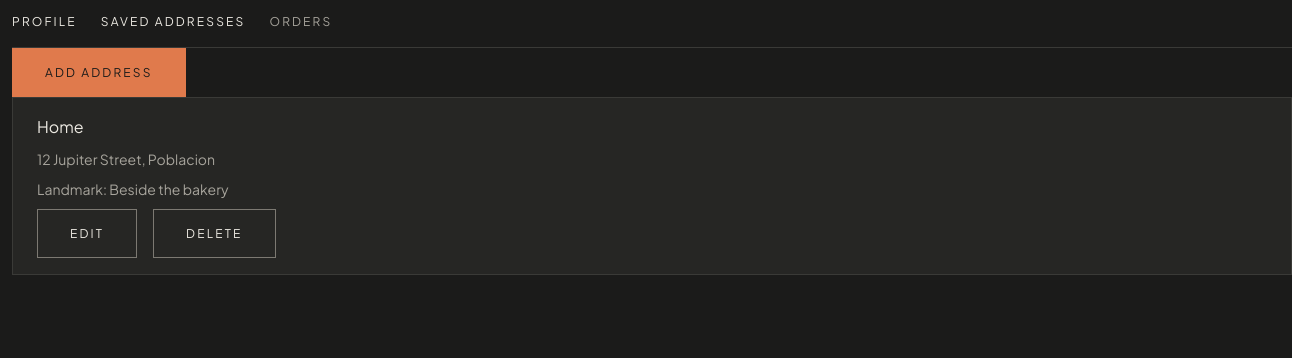
AddressBook › deletes a saved address after confirmation
The width and height of the screenshot is (1292, 358).
expect the button "Add address" is shown: met, box [12,48,186,97]
Click the button with aria-label "Delete Home".
click(214, 233)  # box [153,209,276,258]
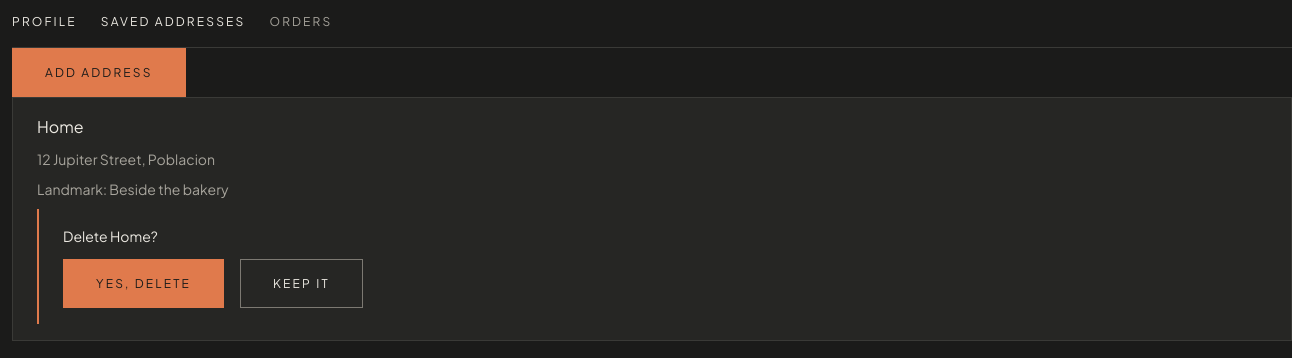
expect the text "Delete Home?" is shown: met, box [63,227,158,245]
Click the button "Keep it".
click(301, 284)  # box [240,259,363,308]
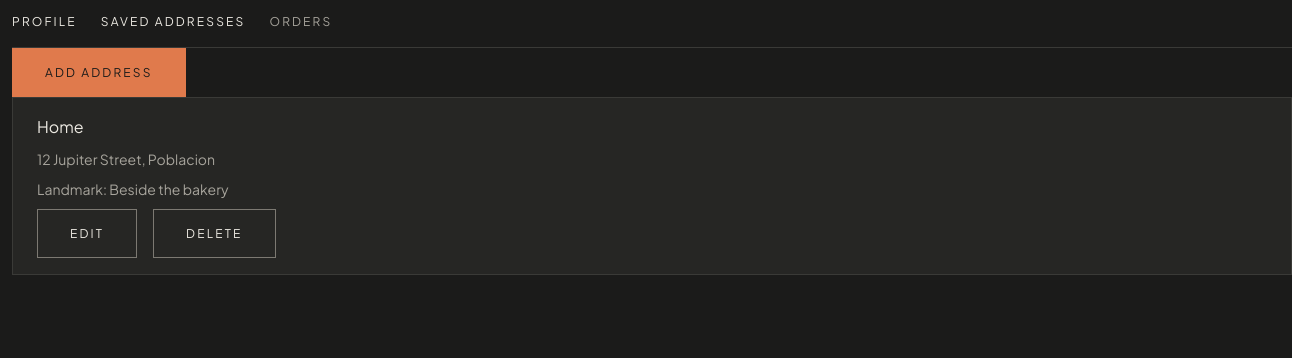
expect the text "Delete Home?" is gone: met
Click the button with aria-label "Delete Home".
click(214, 233)  # box [153,209,276,258]
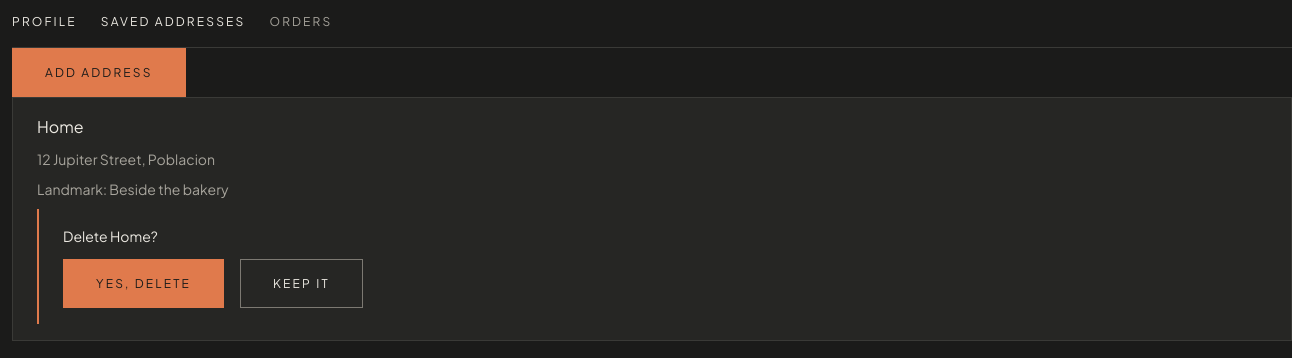
Click the button "Yes, delete".
click(144, 284)  # box [63,259,224,308]
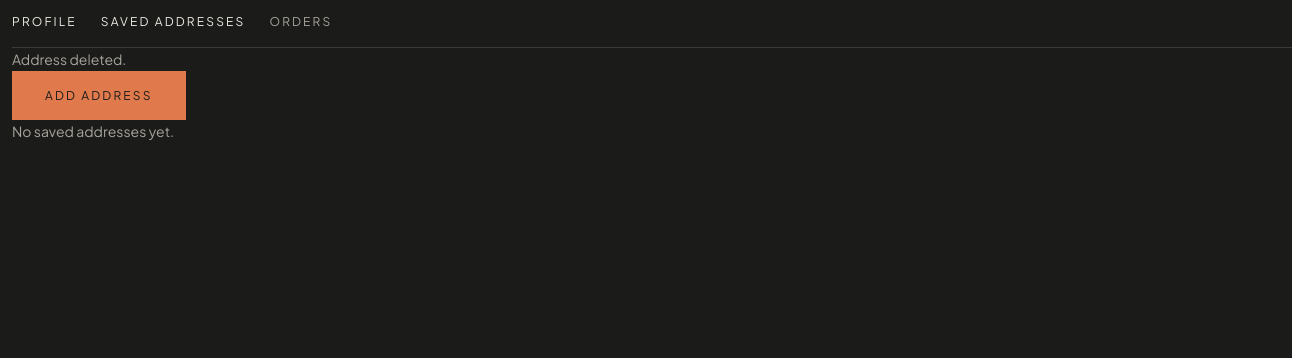
expect the text "Address deleted." is shown: met, box [12,50,126,68]
expect the text "No saved addresses yet." is shown: met, box [12,122,174,140]
